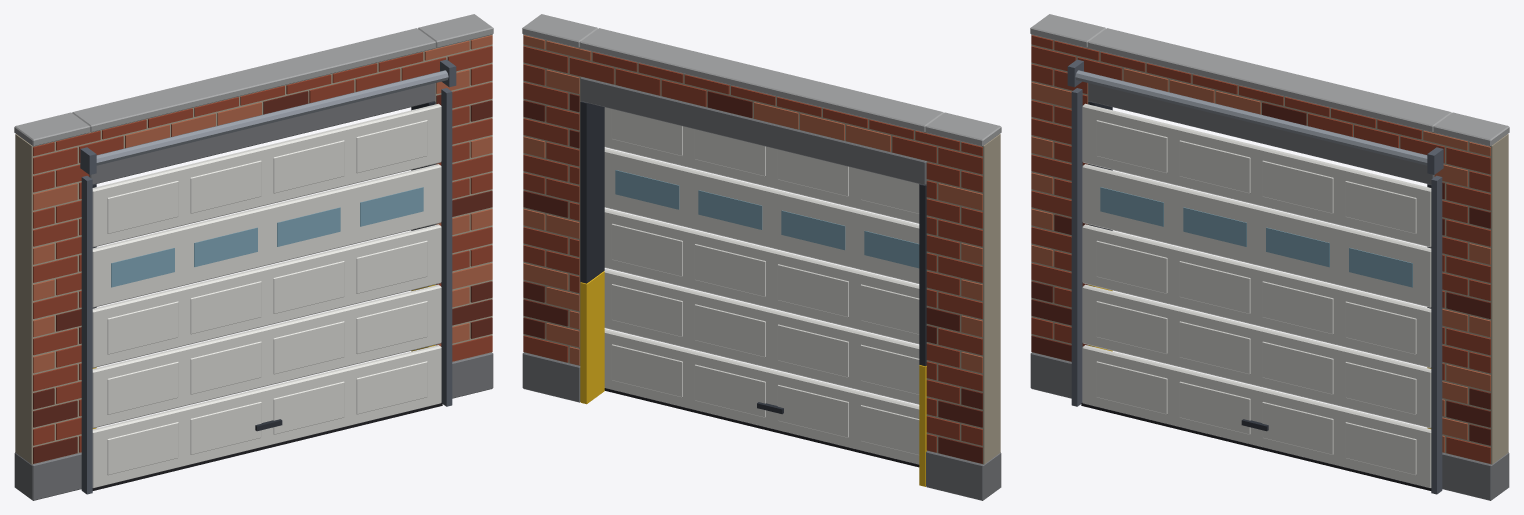
File: Wall_Brick_GarageDoor.fbx
3 views of the same model, side by side, from view 1: azimuth 30°, elevation 25°; view 2: azimuth 150°, elevation 25°; view 3: azimuth 330°, elevation 25° (orthographic).
Parts seen in each view (by area): view 1: Wall_Brick_GarageDoor_Door, Wall_Brick_GarageDoor; view 2: Wall_Brick_GarageDoor_Door, Wall_Brick_GarageDoor; view 3: Wall_Brick_GarageDoor_Door, Wall_Brick_GarageDoor.
Boxes of the visible parts, x1=… form: Wall_Brick_GarageDoor_Door: x1=92, y1=103, x2=442, y2=490; Wall_Brick_GarageDoor: x1=14, y1=14, x2=493, y2=500; Wall_Brick_GarageDoor_Door: x1=604, y1=107, x2=919, y2=467; Wall_Brick_GarageDoor: x1=522, y1=14, x2=1001, y2=500; Wall_Brick_GarageDoor_Door: x1=1081, y1=103, x2=1431, y2=490; Wall_Brick_GarageDoor: x1=1030, y1=14, x2=1509, y2=500.
Bounding box in the file's own units: 4 × 3 × 0.43.
Materials: 1 (1 with a texture image).
